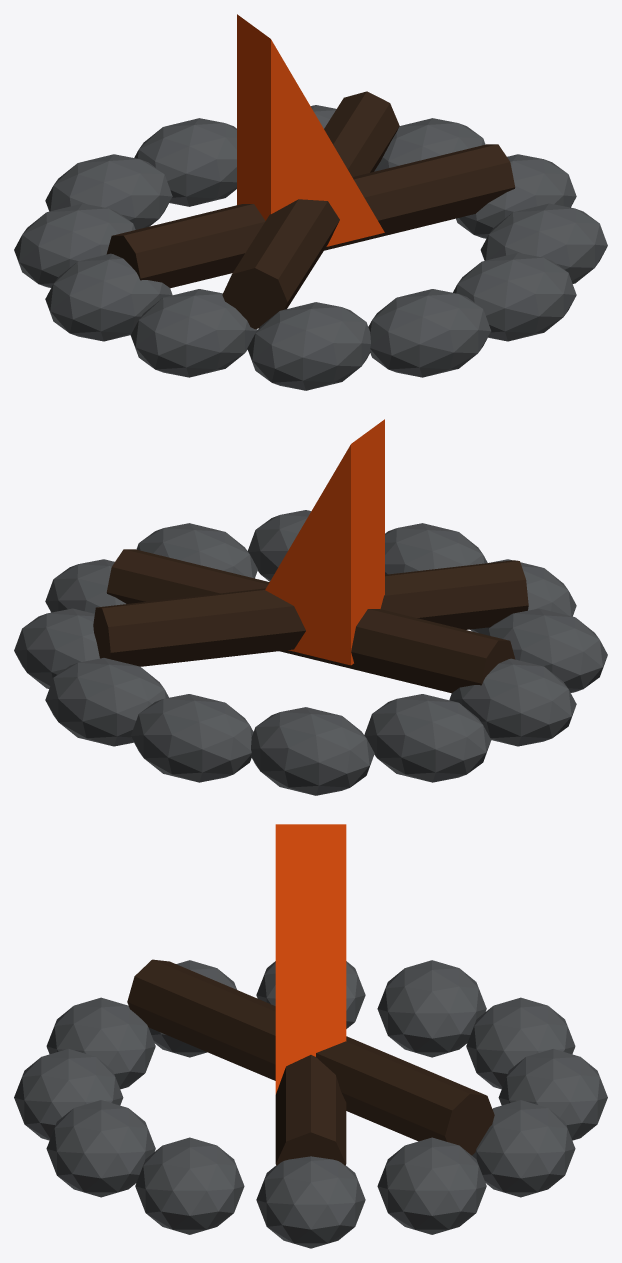
File: AUR_Campfire.obj
The picture shows the model from 3 angles, top to bottom: view 1: azimuth 30°, elevation 25°; view 2: azimuth 150°, elevation 25°; view 3: azimuth 270°, elevation 25°; orthographic projection. The views are drawn at different scales.
Parts seen in each view (by area): view 1: logA_12, flame_marker_14, logB_13, stone_4, stone_3, stone_5, stone_2, stone_6, stone_9, stone_1, stone_8, stone_7 (+2 smaller); view 2: logB_13, flame_marker_14, logA_12, stone_7, stone_8, stone_9, stone_10, stone_6, stone_5, stone_11, stone_3, stone_1 (+3 smaller); view 3: logB_13, flame_marker_14, stone_1, stone_11, stone_7, stone_2, stone_0, stone_10, logA_12, stone_3, stone_9, stone_8 (+3 smaller).
Part boxes in pixels (x1=…): logA_12: x1=106, y1=144, x2=515, y2=288; flame_marker_14: x1=237, y1=14, x2=384, y2=246; logB_13: x1=222, y1=91, x2=399, y2=329; stone_4: x1=247, y1=302, x2=370, y2=390; stone_3: x1=368, y1=289, x2=491, y2=377; stone_5: x1=130, y1=289, x2=257, y2=377; stone_2: x1=453, y1=253, x2=576, y2=341; stone_6: x1=45, y1=253, x2=172, y2=341; stone_9: x1=134, y1=118, x2=236, y2=206; stone_1: x1=480, y1=203, x2=607, y2=283; stone_8: x1=45, y1=154, x2=172, y2=229; stone_7: x1=14, y1=203, x2=135, y2=287; logB_13: x1=93, y1=560, x2=528, y2=666; flame_marker_14: x1=265, y1=419, x2=384, y2=665; logA_12: x1=106, y1=549, x2=515, y2=693; stone_7: x1=364, y1=694, x2=491, y2=782; stone_8: x1=251, y1=707, x2=374, y2=795; stone_9: x1=130, y1=694, x2=253, y2=782; stone_10: x1=45, y1=658, x2=168, y2=746; stone_6: x1=449, y1=658, x2=576, y2=746; stone_5: x1=486, y1=608, x2=607, y2=692; stone_11: x1=14, y1=608, x2=99, y2=688; stone_3: x1=385, y1=523, x2=487, y2=574; stone_1: x1=136, y1=523, x2=257, y2=578; logB_13: x1=127, y1=959, x2=494, y2=1155; flame_marker_14: x1=275, y1=824, x2=346, y2=1094; stone_1: x1=135, y1=1137, x2=244, y2=1234; stone_11: x1=377, y1=1137, x2=486, y2=1234; stone_7: x1=377, y1=960, x2=486, y2=1057; stone_2: x1=46, y1=1100, x2=155, y2=1197; stone_0: x1=256, y1=1156, x2=365, y2=1248; stone_10: x1=472, y1=1100, x2=575, y2=1197; logA_12: x1=275, y1=1055, x2=346, y2=1165; stone_3: x1=14, y1=1049, x2=123, y2=1140; stone_9: x1=498, y1=1049, x2=607, y2=1140; stone_8: x1=466, y1=997, x2=575, y2=1089.
Bounding box in the file's own units: 1.6 × 0.8 × 1.52.
